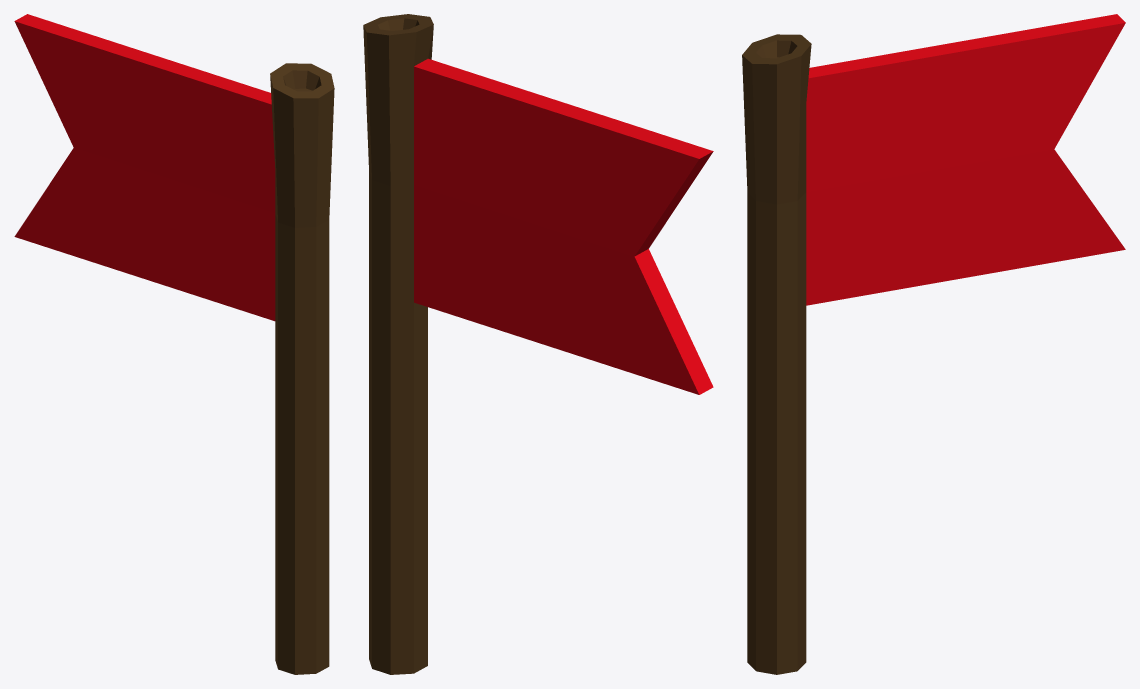
File: redflag.fbx
3 renders of one model, left to right at view 1: azimuth 30°, elevation 25°; view 2: azimuth 210°, elevation 25°; view 3: azimuth 270°, elevation 25°, orthographic. The views are drawn at different scales.
Parts seen in each view (by area): view 1: Cylinder; view 2: Cylinder; view 3: Cylinder.
Boxes of the visible parts, x1,y1,x2,y2 form: Cylinder: (14,14,334,674); Cylinder: (363,14,713,674); Cylinder: (742,14,1125,674).
Size of the model in its own units: 647 by 2342 by 1317.
